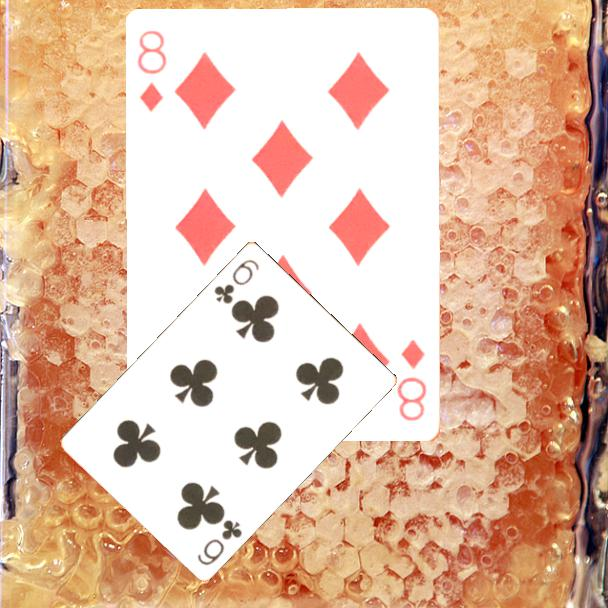c06: (210, 255, 262, 307), (194, 515, 245, 568)
d08: (394, 336, 430, 424), (134, 27, 170, 115)
